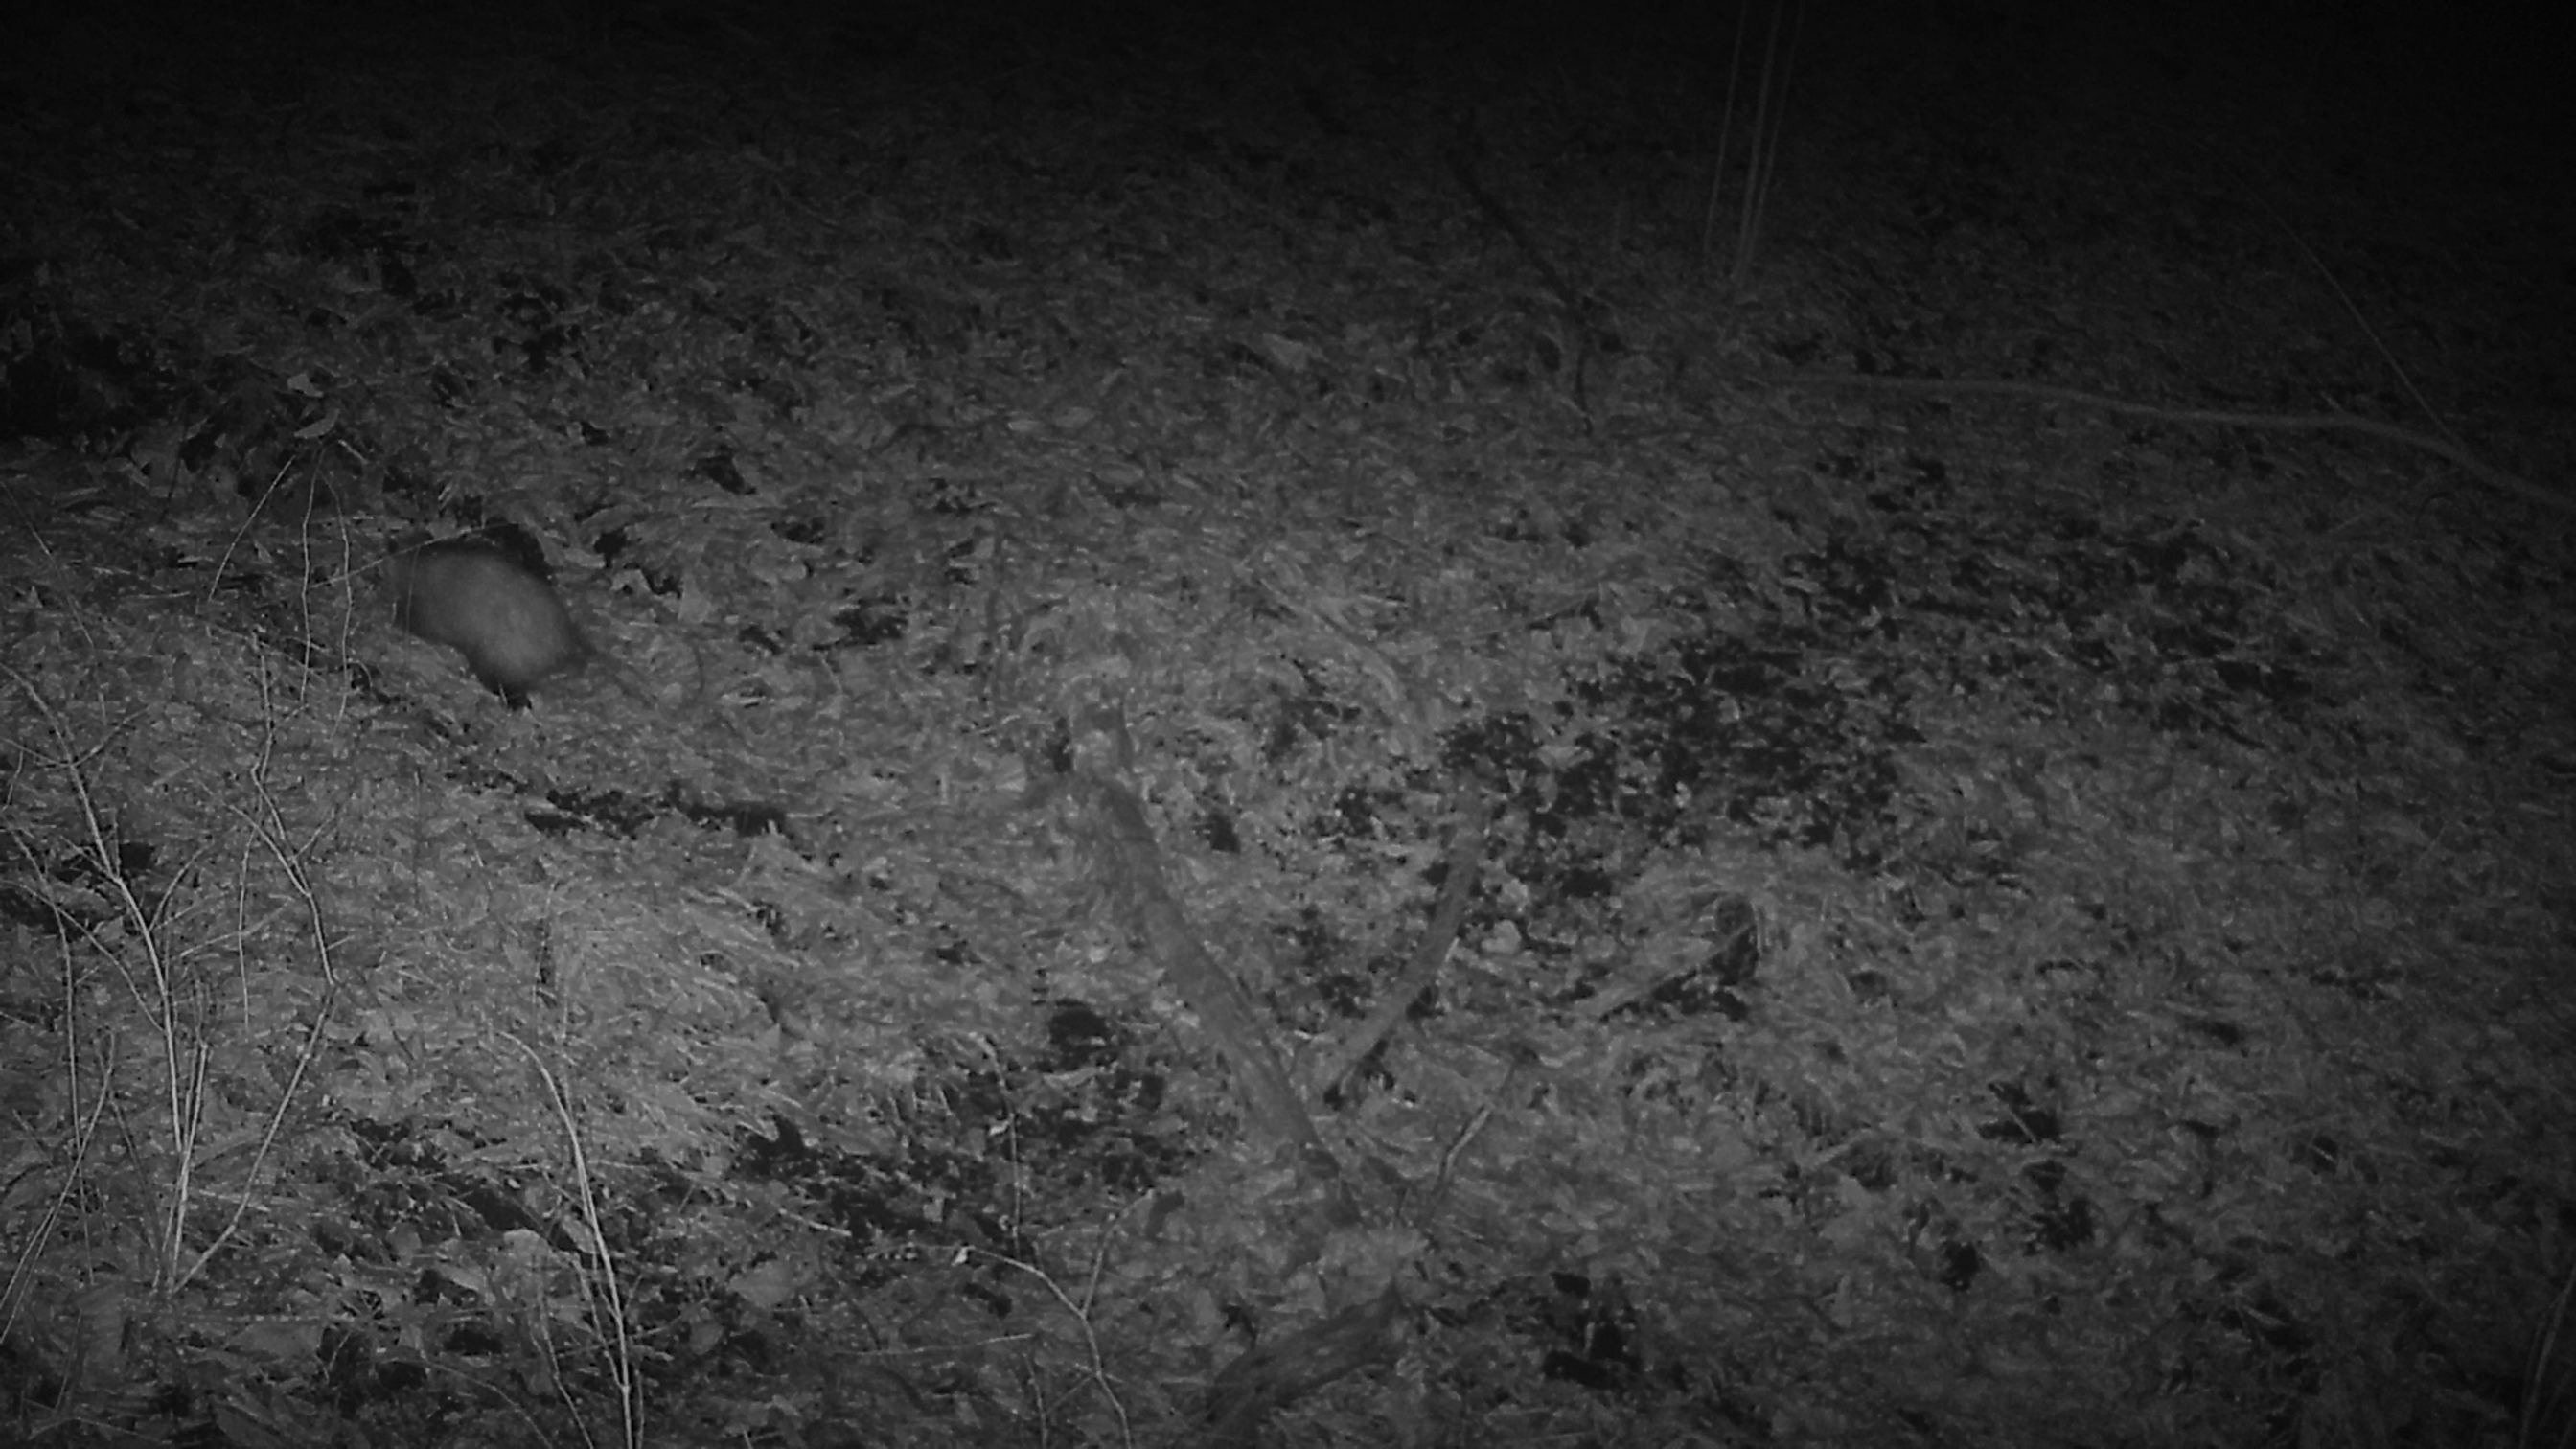Possum: (363, 536, 667, 715)
